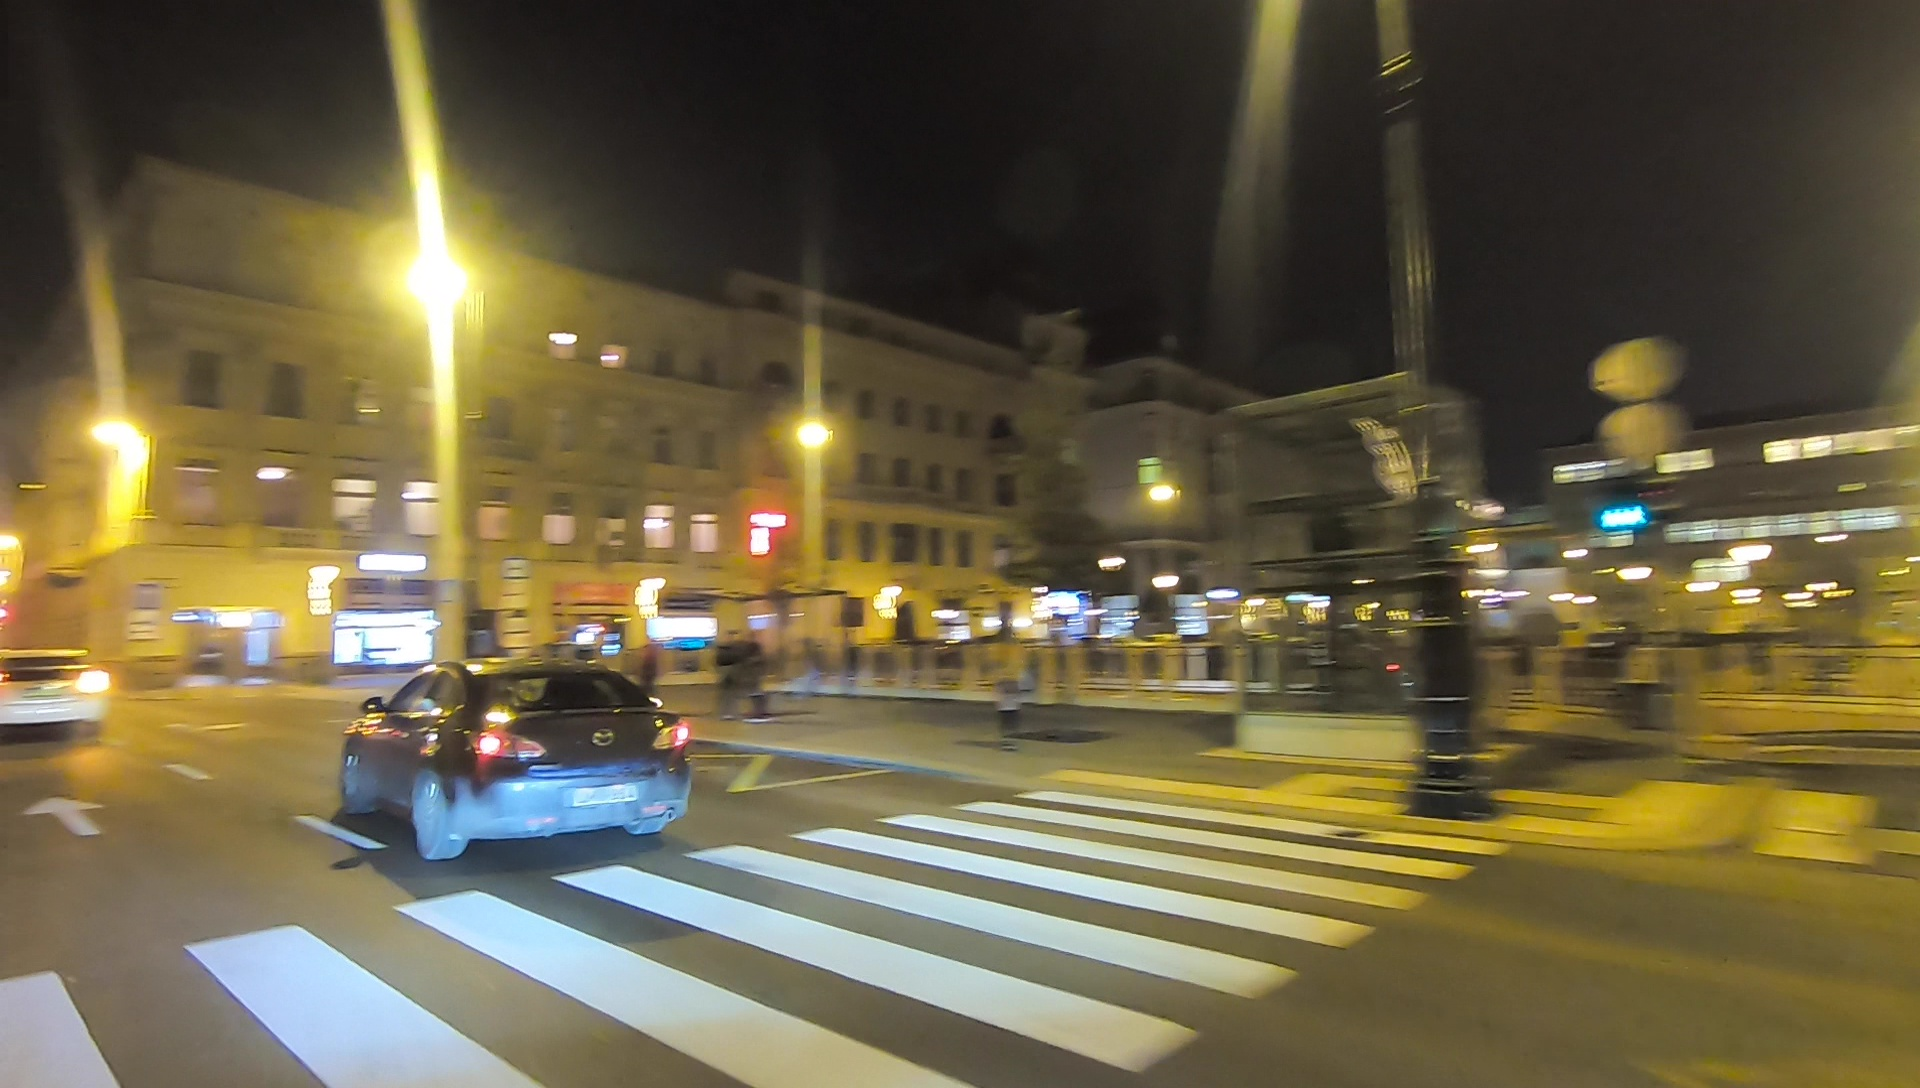person: (734, 641, 773, 724), (708, 641, 732, 711)
